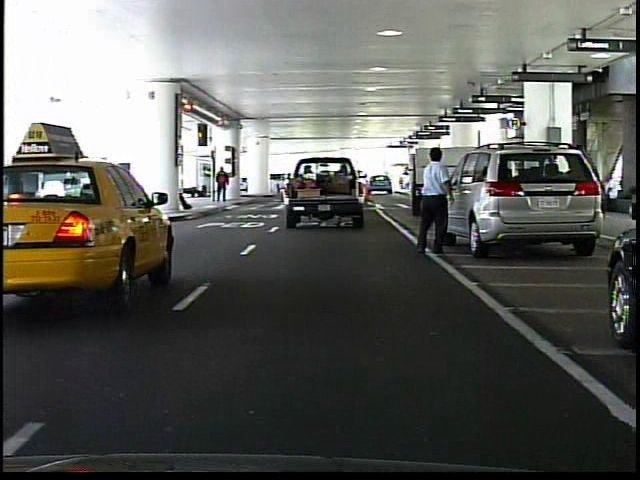person: (408, 144, 459, 262), (213, 163, 232, 205)
